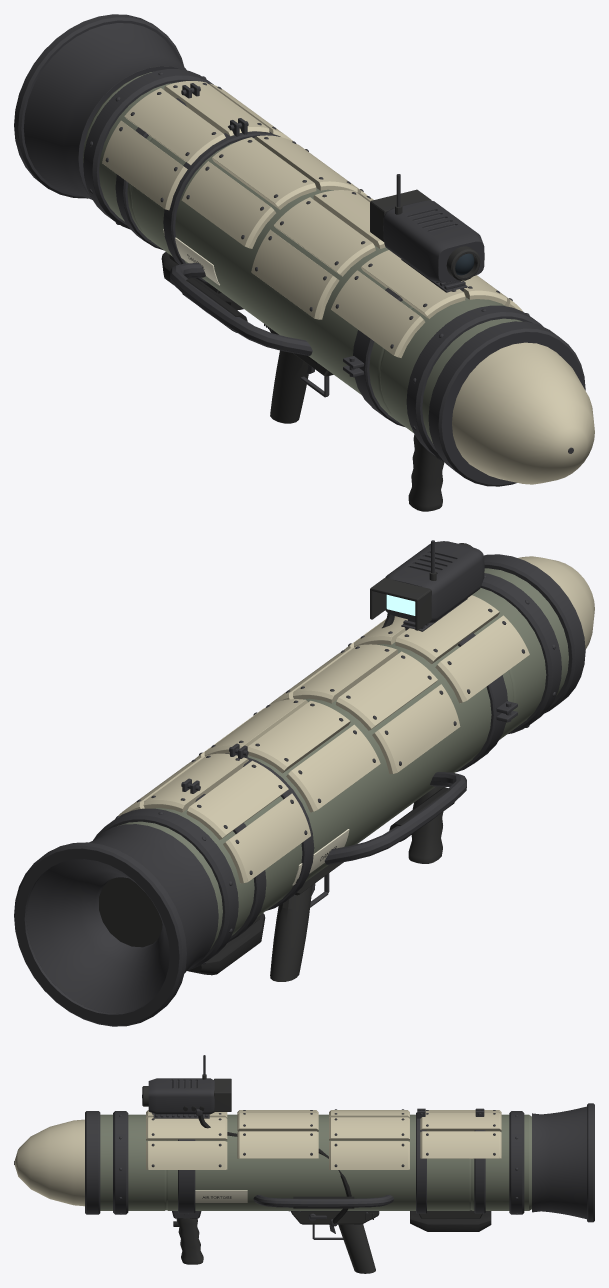
Rendered from tortoise.glb.
3 renders of one model, top to bottom at view 1: azimuth 30°, elevation 25°; view 2: azimuth 150°, elevation 25°; view 3: azimuth 270°, elevation 25°, orthographic. The views are drawn at different scales.
Visible parts, largest first — view 1: Body; view 2: Body; view 3: Body.
Part boxes in pixels (left/top/right/bottom): Body: left=14, top=14, right=594, bottom=511; Body: left=14, top=540, right=594, bottom=1026; Body: left=14, top=1055, right=594, bottom=1273.
Bounding box in the file's own units: 0.3224 × 0.4555 × 1.14.
